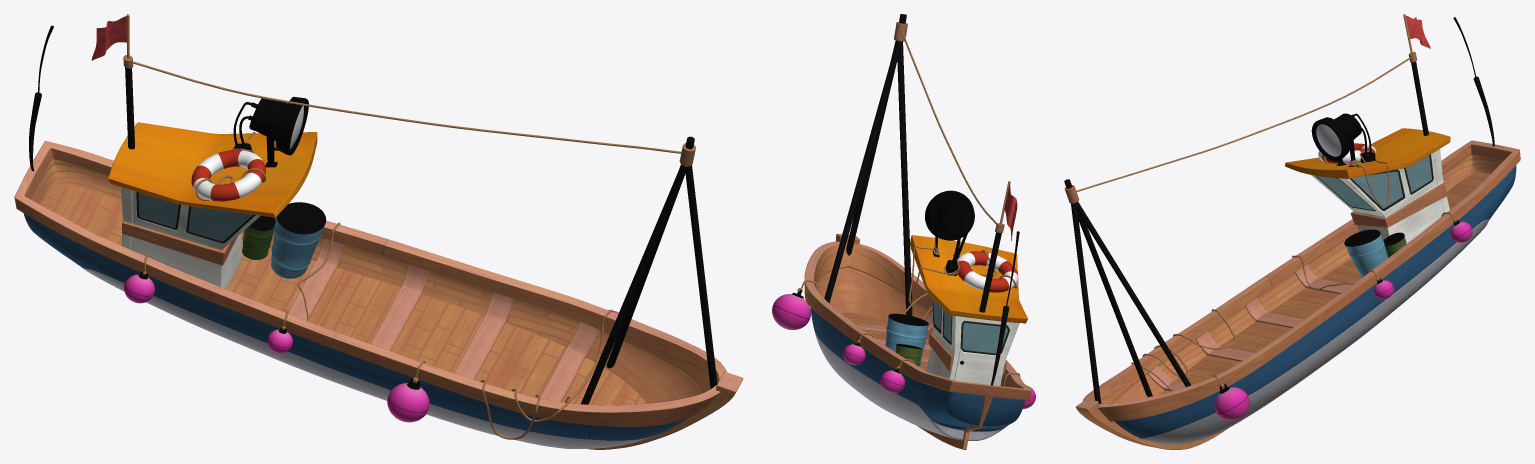
Rendered from boat-backup.glb.
3 views of the same model, side by side, from view 1: azimuth 30°, elevation 25°; view 2: azimuth 150°, elevation 25°; view 3: azimuth 270°, elevation 25° (orthographic). The views are drawn at different scales.
Parts seen in each view (by area): view 1: node_id224_1; view 2: node_id224_1; view 3: node_id224_1.
Boxes of the visible parts, x1,y1,x2,y2 form: node_id224_1: (14,14,743,449); node_id224_1: (772,14,1035,449); node_id224_1: (1064,14,1520,449).
Size of the model in its own units: 0.5974 by 0.4841 by 0.6398.
1 material, 1 textured.
